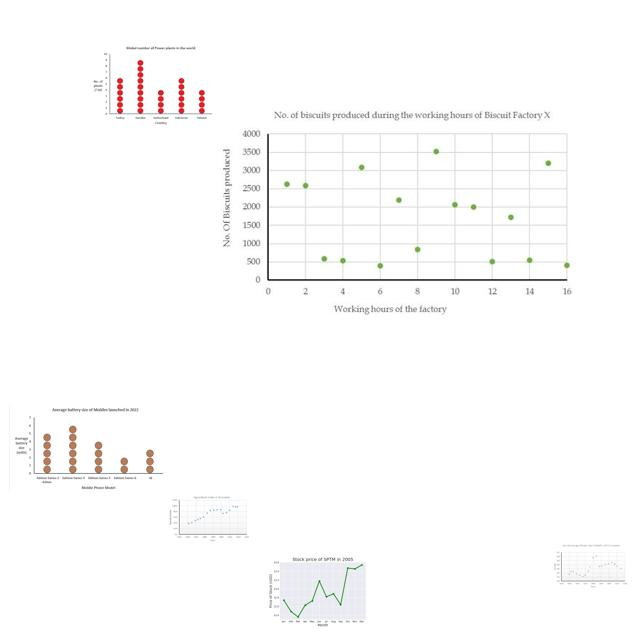Graph: (215, 104, 576, 322), (9, 405, 167, 493), (92, 45, 212, 127), (266, 549, 377, 632), (167, 493, 251, 542), (552, 543, 628, 588)
